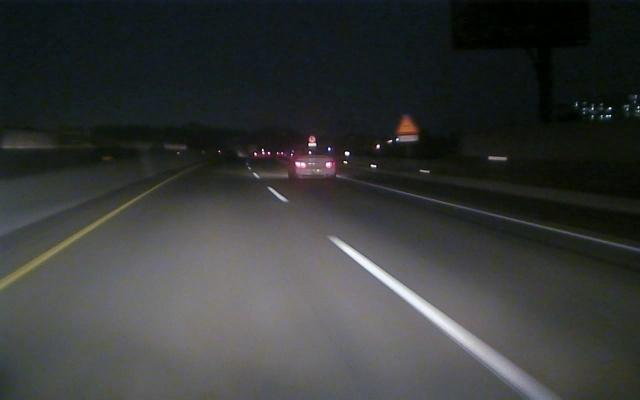lane: (269, 188, 564, 399), (373, 183, 640, 254), (2, 202, 129, 289)
